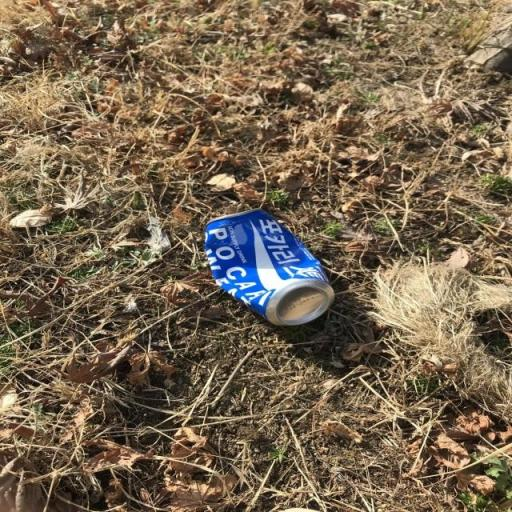metal: (180, 204, 344, 333)
